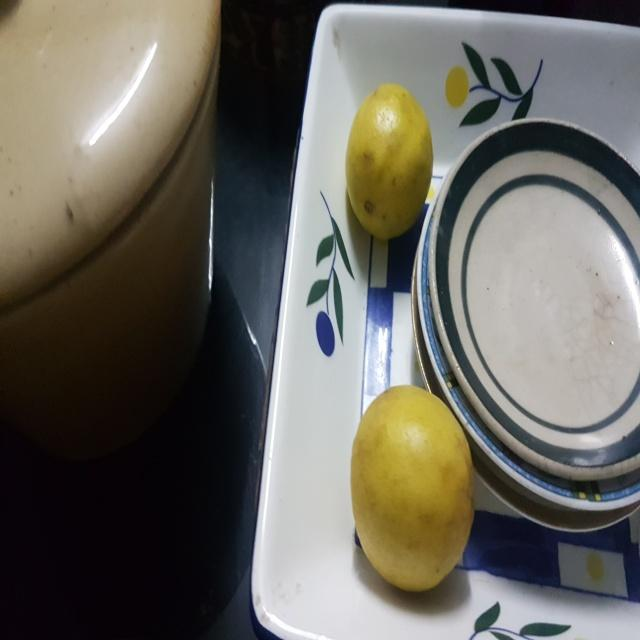lemon: (344, 379, 482, 593), (342, 76, 434, 237)
